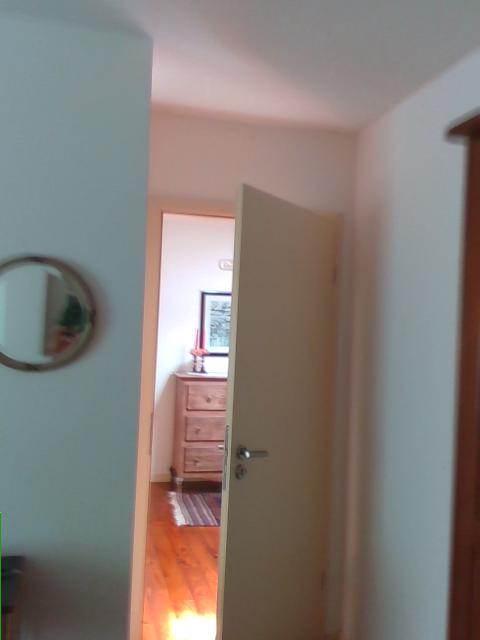semi_door: (127, 176, 341, 637)
